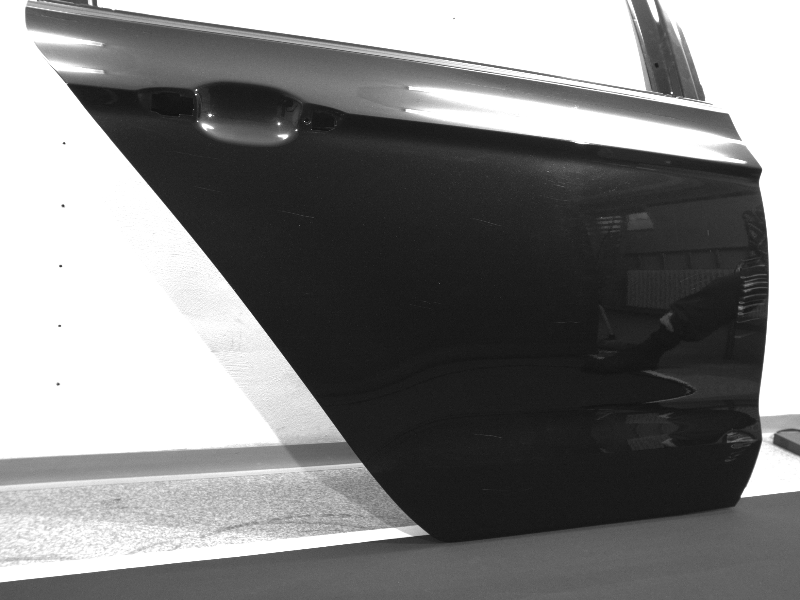scratch: (734, 257, 768, 339), (724, 427, 758, 463), (680, 271, 708, 288), (169, 150, 217, 159), (278, 210, 315, 220), (409, 300, 442, 310), (472, 218, 504, 228), (196, 186, 223, 193), (474, 433, 504, 439), (481, 487, 509, 493), (555, 320, 579, 325), (706, 229, 711, 237)
